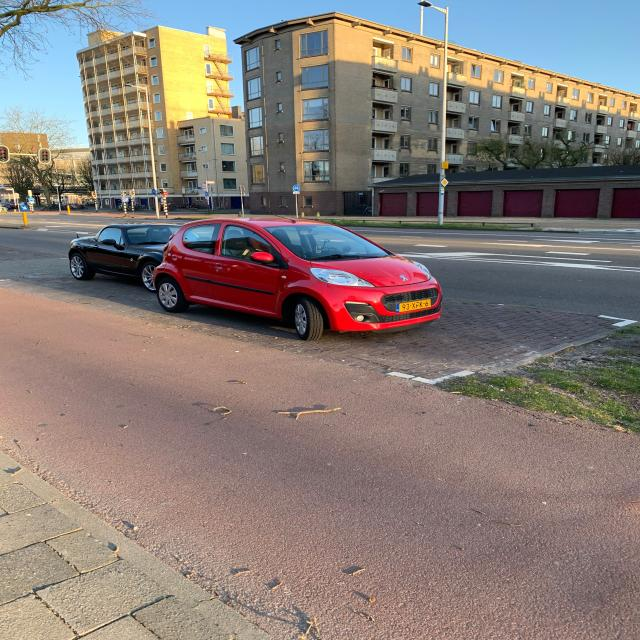plate: (394, 297, 433, 313)
